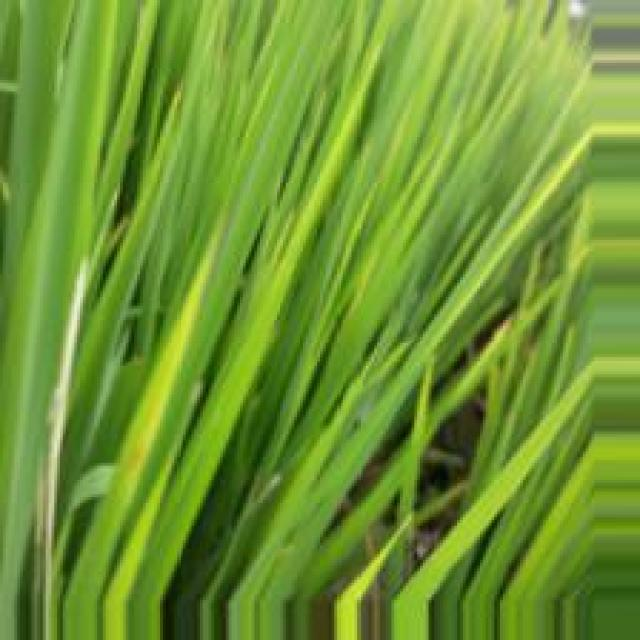HealthyLeaf: (44, 46, 103, 292), (170, 245, 244, 416), (139, 448, 219, 584), (331, 291, 387, 370)
